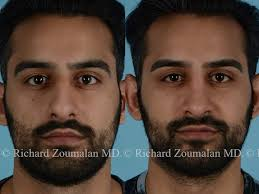middle_eastern_male: (134, 19, 259, 173)
